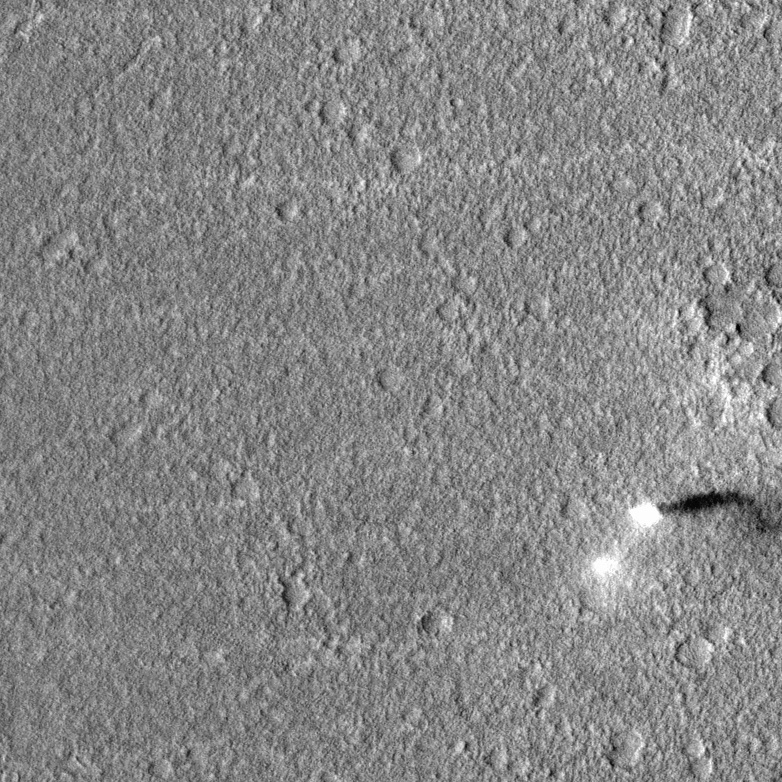dust_devil: (628, 487, 782, 542)
